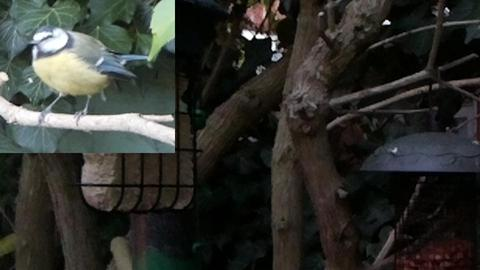blue tit: (25, 25, 150, 128)
